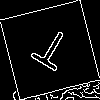T: (25, 25, 75, 80)
